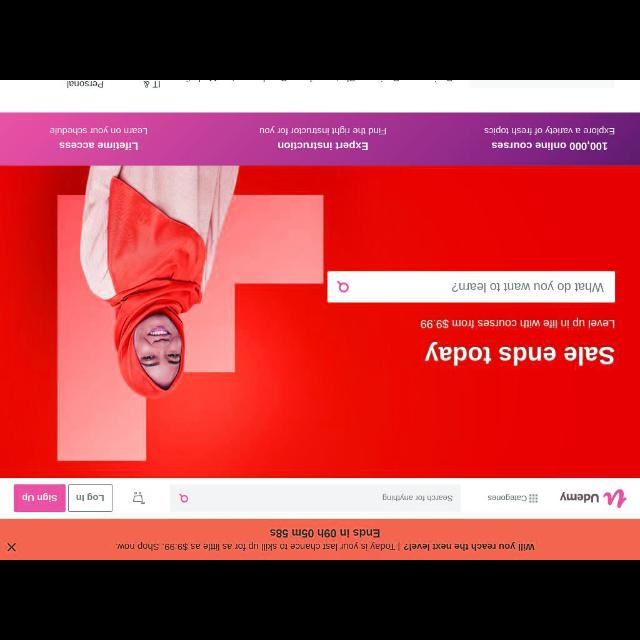backgroundimage: (1, 165, 639, 477)
icon: (132, 492, 146, 504), (336, 280, 348, 292), (528, 492, 538, 503), (6, 542, 16, 552), (178, 493, 188, 503)
iframe: (1, 518, 640, 560)
image: (560, 488, 628, 508)
input: (327, 271, 615, 303), (169, 484, 461, 511)
text: (424, 340, 614, 366), (116, 541, 534, 551), (483, 125, 615, 151), (258, 126, 386, 150), (420, 316, 616, 329), (49, 126, 147, 150), (452, 280, 604, 292), (270, 528, 380, 538), (382, 492, 453, 502), (487, 492, 527, 502), (22, 492, 56, 502), (68, 81, 104, 89), (76, 492, 104, 502), (143, 81, 161, 89)
textbutton: (13, 484, 65, 512), (67, 484, 113, 512)
toolbar: (1, 478, 640, 518)
